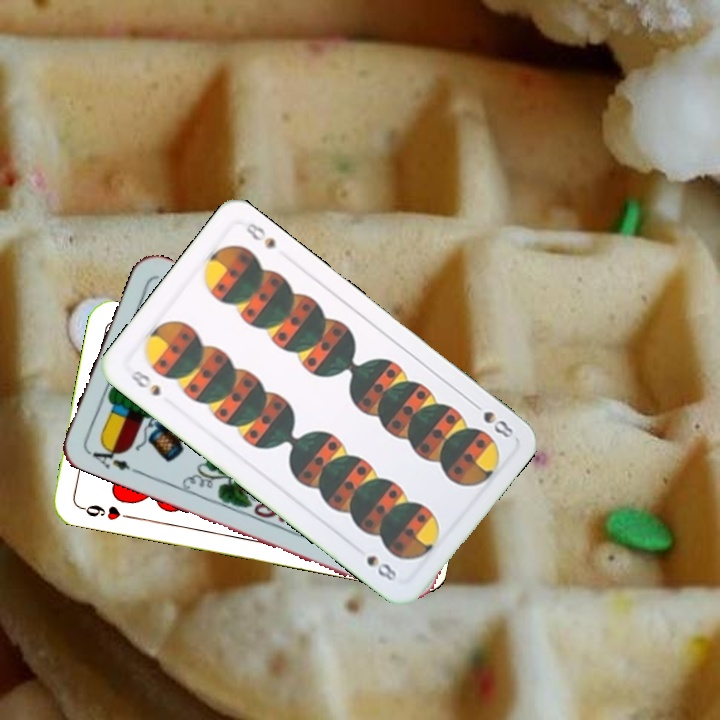EA: (85, 439, 133, 473)
H9: (76, 500, 135, 523)
S8: (466, 397, 516, 441), (126, 366, 163, 399)
